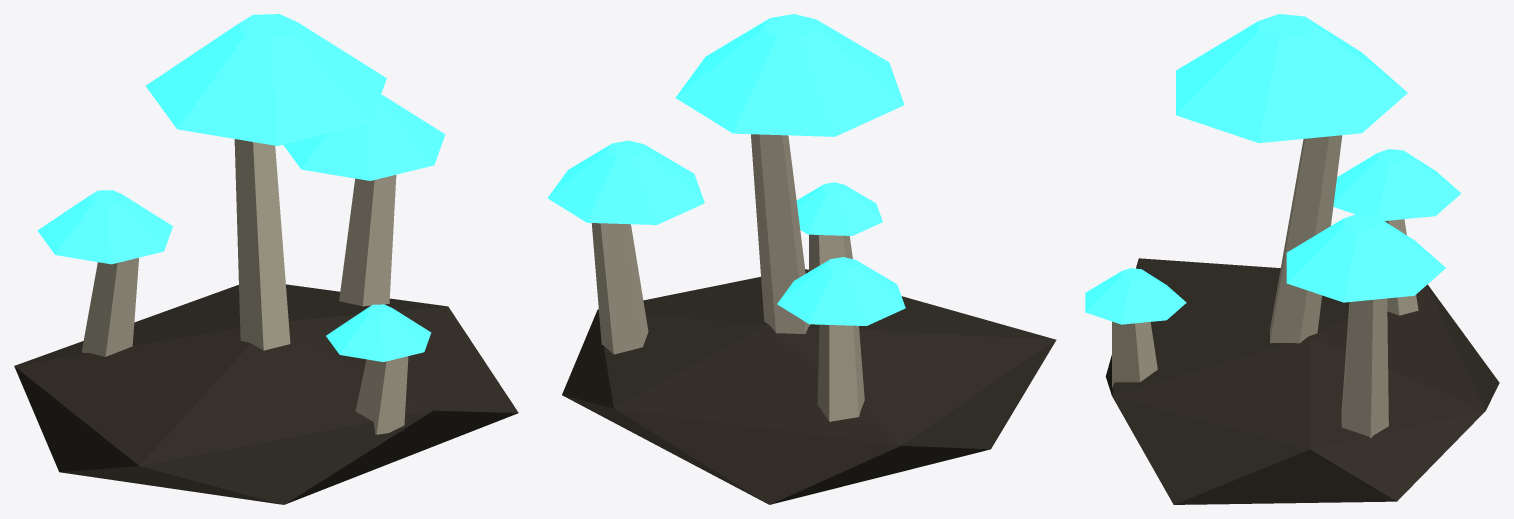
The model's file is decor_mushrooms.glb.
The picture shows the model from 3 angles, left to right: view 1: azimuth 30°, elevation 25°; view 2: azimuth 150°, elevation 25°; view 3: azimuth 270°, elevation 25°; orthographic projection. The views are drawn at different scales.
Parts seen in each view (by area): view 1: decor_mushrooms; view 2: decor_mushrooms; view 3: decor_mushrooms.
Boxes of the visible parts, x1,y1,x2,y2 form: decor_mushrooms: (14, 14, 518, 504); decor_mushrooms: (547, 14, 1056, 504); decor_mushrooms: (1085, 14, 1499, 504).
Bounding box in the file's own units: 0.6187 × 0.6242 × 0.5431.
